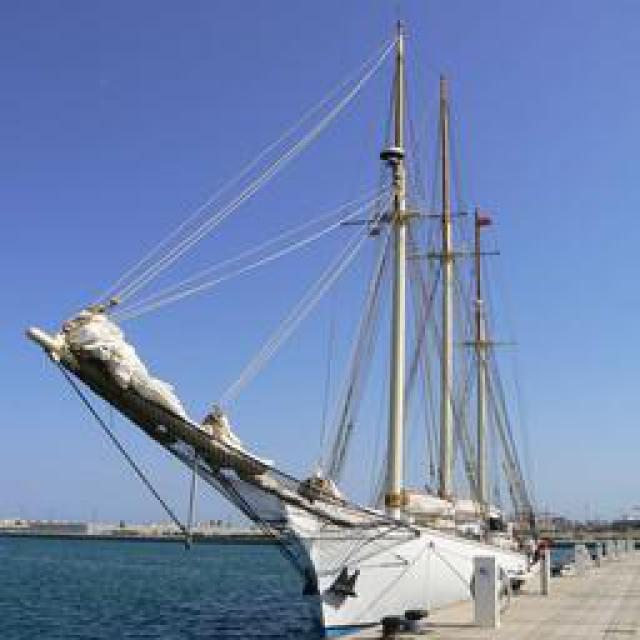Ship: (35, 26, 550, 634)
